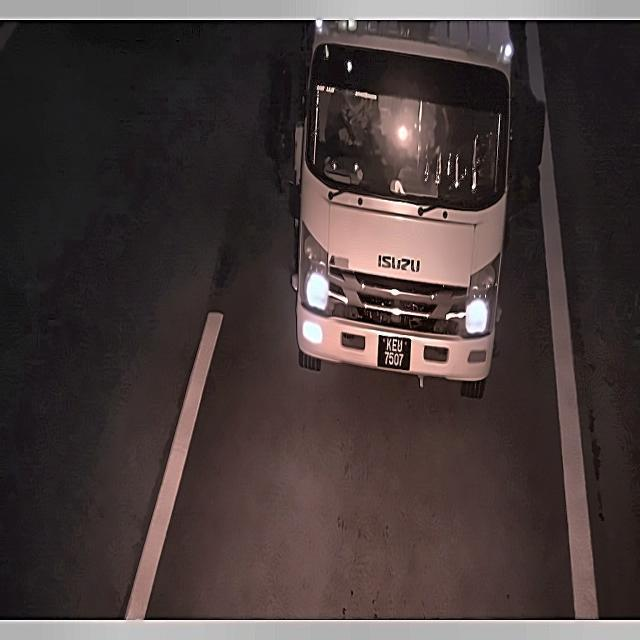car: (376, 329, 412, 376)
